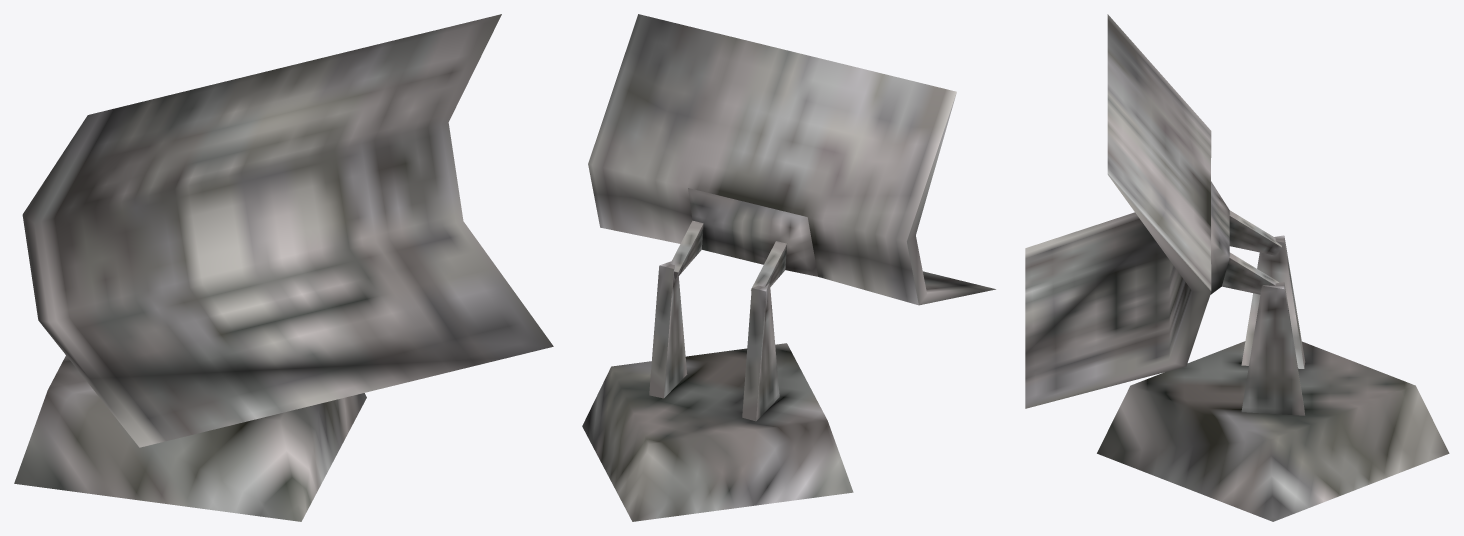
File: corellian_corvette_radar_s01_l3.fbx
3 views of the same model, side by side, from view 1: azimuth 30°, elevation 25°; view 2: azimuth 150°, elevation 25°; view 3: azimuth 270°, elevation 25° (orthographic). The views are drawn at different scales.
Parts seen in each view (by area): view 1: mesh_node; view 2: mesh_node; view 3: mesh_node.
Part boxes in pixels (x1,y1,x2,y2): mesh_node: (14, 14, 553, 521); mesh_node: (582, 14, 995, 521); mesh_node: (1025, 14, 1449, 521).
Size of the model in its own units: 10.97 by 11.44 by 12.24.
